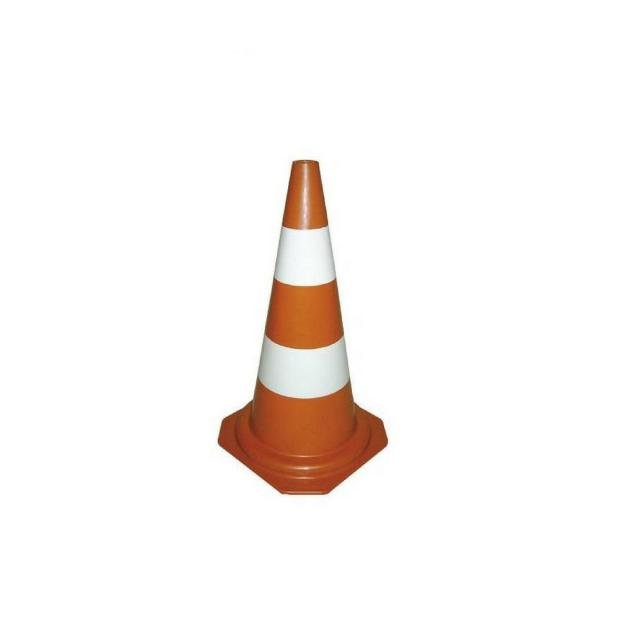cone: (222, 163, 382, 490)
